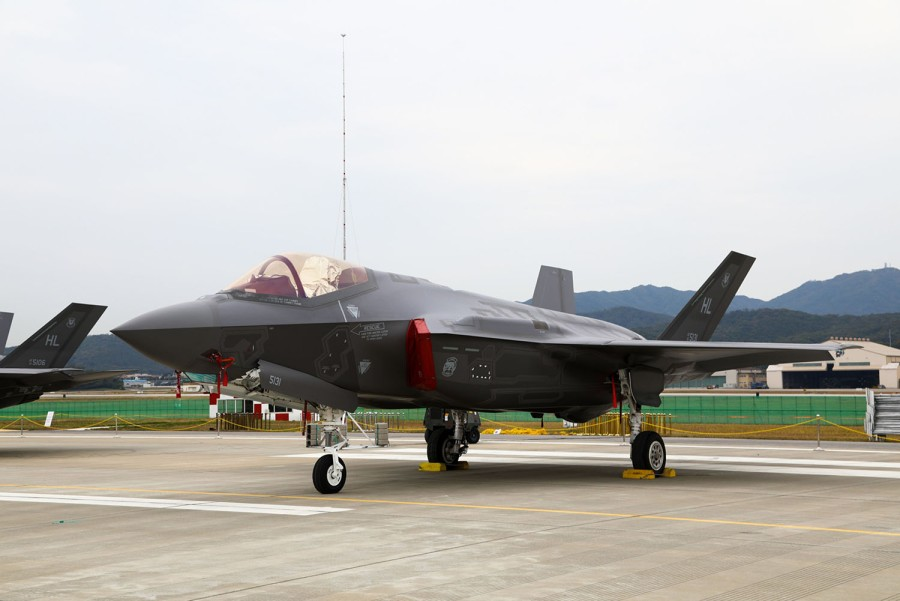F-35 Lightning: (109, 195, 838, 502)
